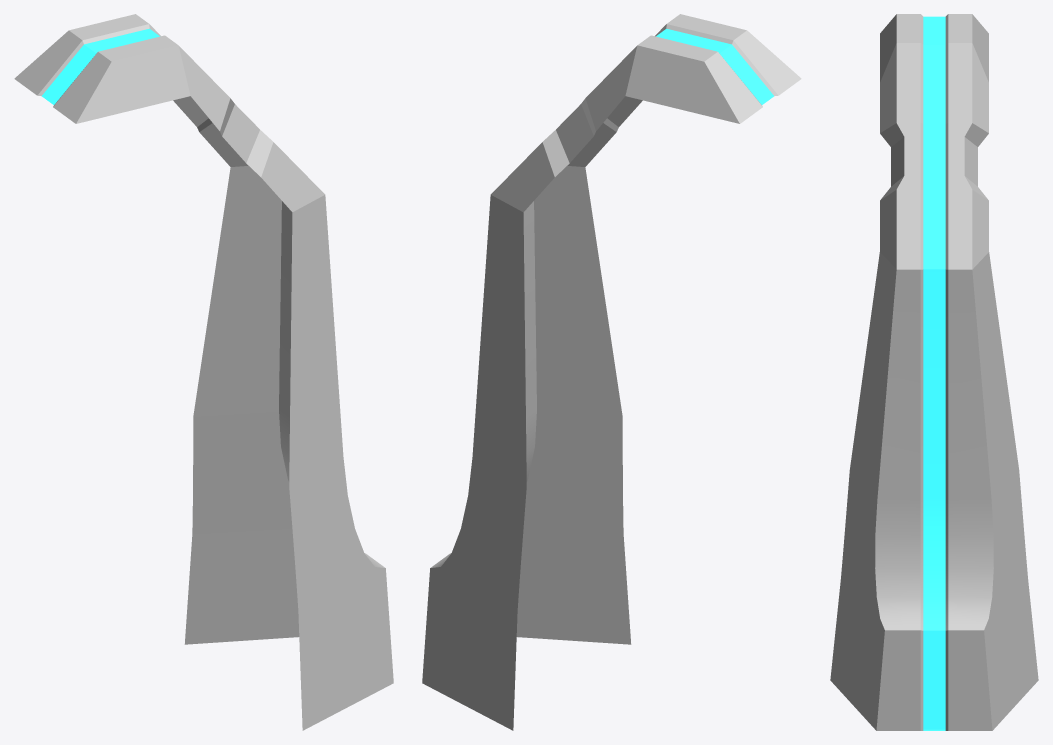
The model's file is SM_WallTile_Pillar.fbx.
3 renders of one model, left to right at view 1: azimuth 30°, elevation 25°; view 2: azimuth 150°, elevation 25°; view 3: azimuth 270°, elevation 25°, orthographic. The views are drawn at different scales.
Parts seen in each view (by area): view 1: Plane.071; view 2: Plane.071; view 3: Plane.071.
Part boxes in pixels (x1,y1,x2,y2): Plane.071: (14, 14, 393, 730); Plane.071: (422, 14, 801, 730); Plane.071: (830, 14, 1038, 730).
Size of the model in its own units: 2.34 by 1.51 by 4.82.
